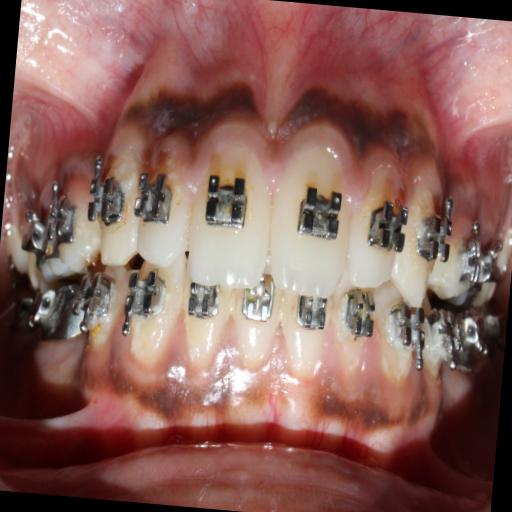correct_brace: (292, 182, 346, 244), (198, 166, 250, 230), (86, 164, 130, 230), (367, 195, 411, 257), (134, 167, 178, 225), (416, 212, 454, 266)
incorrect_brace: (346, 162, 406, 296), (136, 140, 198, 269)
